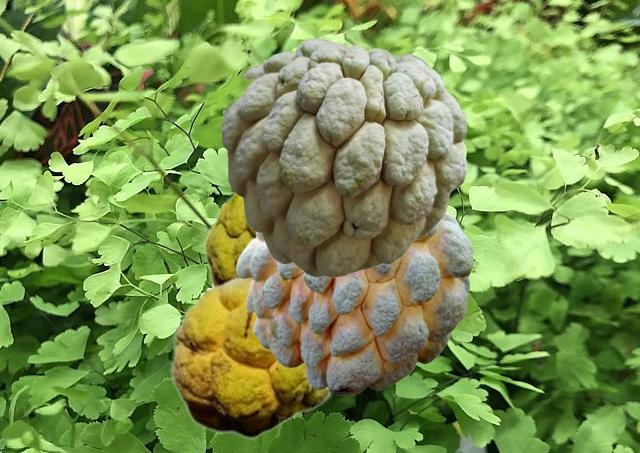atis: (220, 38, 466, 276), (236, 211, 472, 394), (169, 272, 334, 438), (202, 191, 254, 285)
